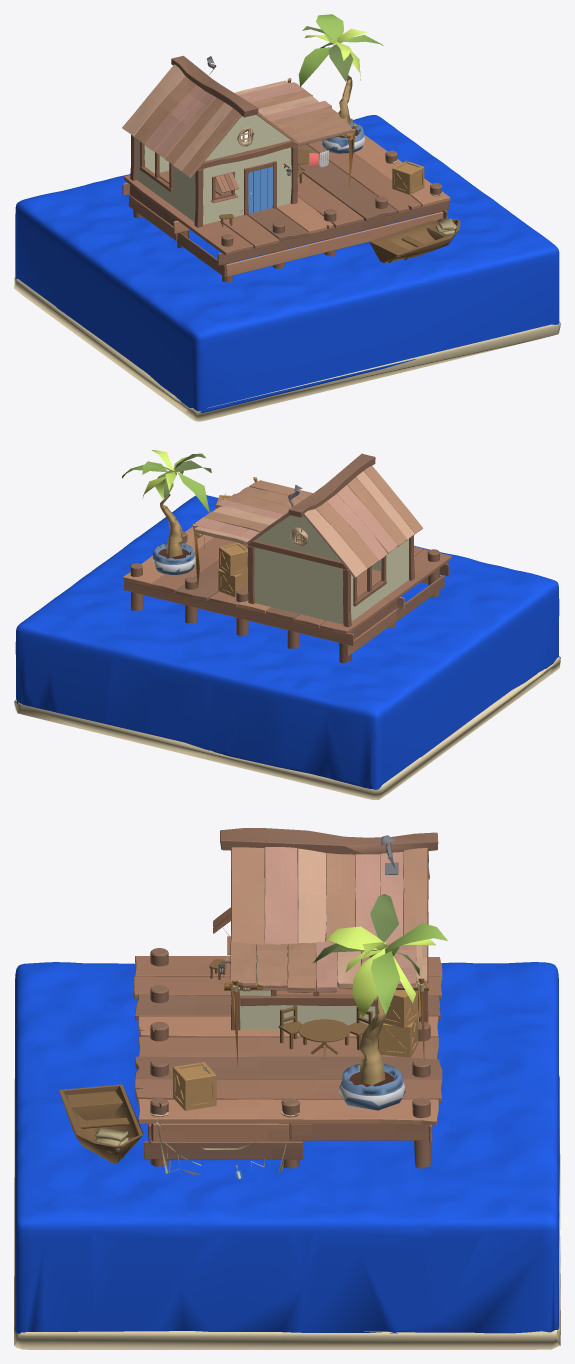
File: sea_shack.glb
The picture shows the model from 3 angles, top to bottom: view 1: azimuth 30°, elevation 25°; view 2: azimuth 150°, elevation 25°; view 3: azimuth 270°, elevation 25°; orthographic projection. The views are drawn at different scales.
Visible parts, largest first — view 1: Water_Water_0, House supports_Wood darker_0; view 2: Water_Water_0, House supports_Wood darker_0; view 3: Water_Water_0, House supports_Wood darker_0.
Boxes of the visible parts, x1,y1,x2,y2 form: Water_Water_0: [15, 115, 559, 412]; House supports_Wood darker_0: [14, 14, 560, 421]; Water_Water_0: [15, 495, 559, 789]; House supports_Wood darker_0: [14, 450, 560, 799]; Water_Water_0: [15, 962, 558, 1333]; House supports_Wood darker_0: [14, 828, 560, 1349].
Bounding box in the file's own units: 2147 × 1370 × 1880.
Materials: 5 (5 with a texture image).
